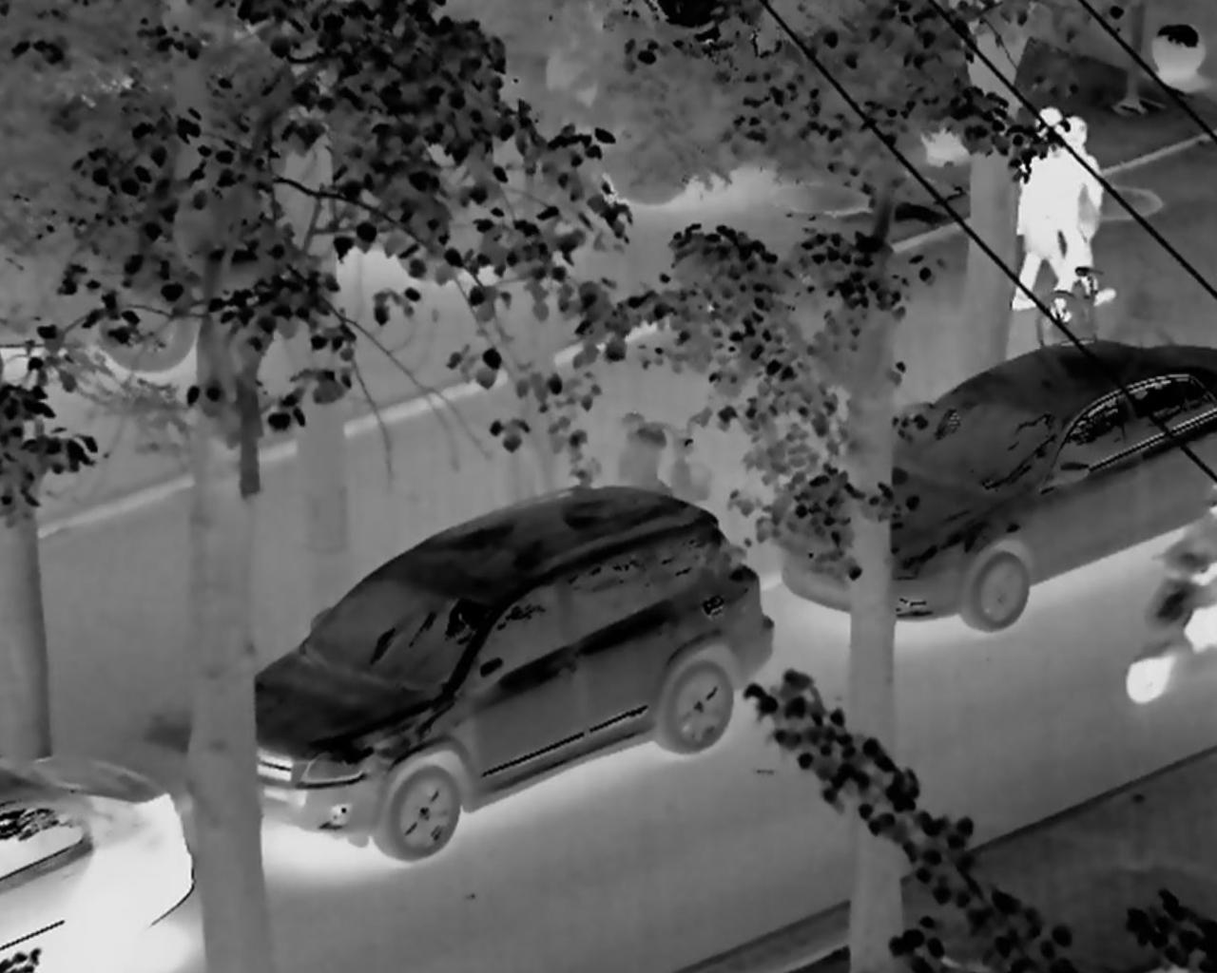person: (1047, 100, 1126, 322), (1013, 100, 1071, 308)
